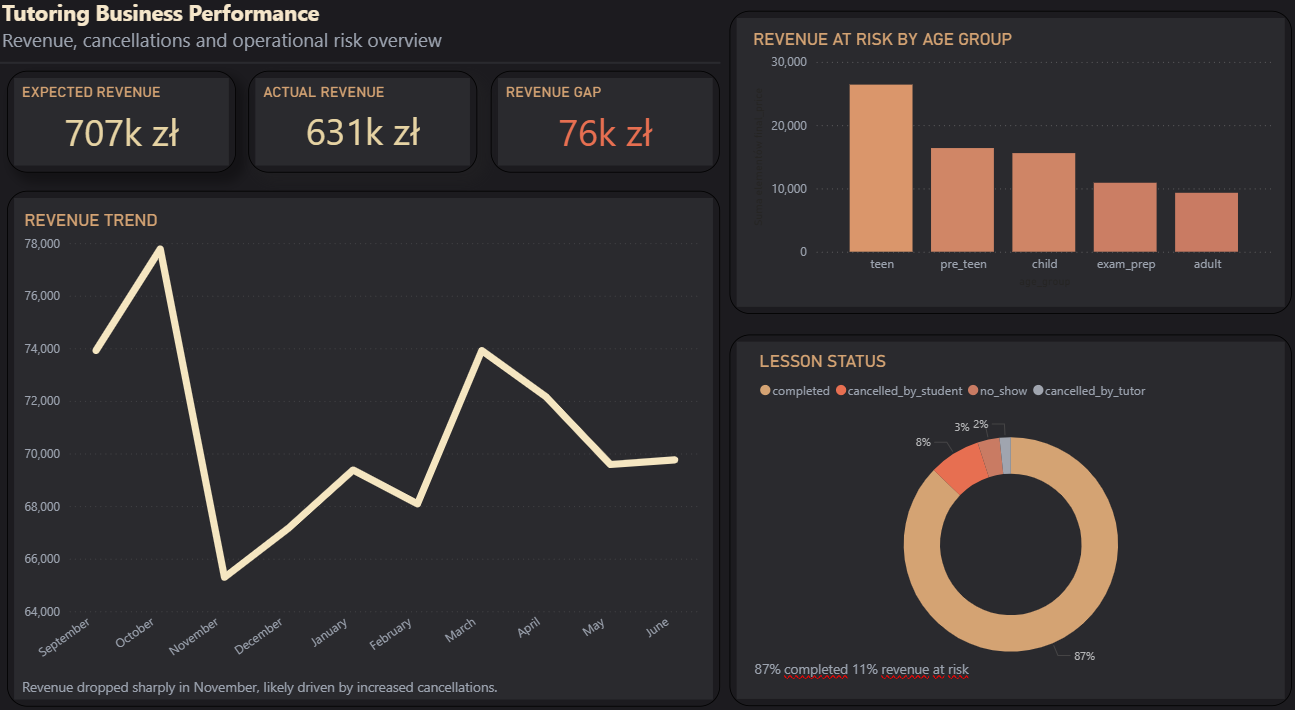

The page's visual inventory and layout, read from the dashboard file:
{"tool":"powerbi","page":{"name":"Strona 1","canvas":[1280,720],"ordinal":0},"visuals":[{"type":"shape","box":[9.6,76.8,225,100.2],"z":0},{"type":"card","title":"EXPECTED REVENUE","fields":{"Values":["lessons_clean.Expected Revenue Display"]},"box":[19.2,89.2,205.8,78.2],"z":1000},{"type":"shape","box":[247,76.8,225,100.2],"z":2000},{"type":"shape","box":[484.4,76.8,225,100.2],"z":3000},{"type":"card","title":"ACTUAL REVENUE","fields":{"Values":["payments_clean.Actual Revenue Display"]},"box":[256.6,89.2,205.8,76.8],"z":4000},{"type":"card","title":"REVENUE GAP","fields":{"Values":["payments_clean.Revenue Gap Display"]},"box":[494,89.2,205.8,78.2],"z":5000},{"type":"shape","box":[9.6,194.9,699.8,506.3],"z":6000},{"type":"lineChart","title":"REVENUE TREND","fields":{"Category":["calendar_clean.month_name"],"Y":["Sum(lessons_clean.final_price)"]},"box":[22.1,213.5,673.6,462.6],"z":7000},{"type":"shape","box":[719,336.2,551.6,365],"z":8000},{"type":"donutChart","title":"LESSON STATUS","fields":{"Y":["CountNonNull(lessons_clean.lesson_id)"],"Category":["lessons_clean.status"]},"box":[743.7,352.7,503.6,333.4],"z":9000},{"type":"textbox","box":[738.3,650.4,484.4,50.8],"z":10000},{"type":"shape","box":[719,17.8,551.6,297.8],"z":11000},{"type":"columnChart","title":"REVENUE AT RISK BY AGE GROUP","fields":{"Y":["Sum(lessons_clean.final_price)"],"Category":["students_clean.age_group"]},"box":[736.9,35.7,520.1,259.3],"z":12000},{"type":"textbox","box":[0,0,467.9,70],"z":13000},{"type":"shape","box":[0,62,710.2,13.9],"z":14000},{"type":"textbox","box":[19.6,667.5,530.1,33.1],"z":14001}]}

Visuals, with their boxes in screenshot pixels (x1, y1, x2, y2), scaled from the page's 1280x720 canvas onto the 1295x710 screenshot:
shape: x1=10 y1=76 x2=237 y2=175
"EXPECTED REVENUE" card: x1=19 y1=88 x2=228 y2=165
shape: x1=250 y1=76 x2=478 y2=175
shape: x1=490 y1=76 x2=718 y2=175
"ACTUAL REVENUE" card: x1=260 y1=88 x2=468 y2=164
"REVENUE GAP" card: x1=500 y1=88 x2=708 y2=165
shape: x1=10 y1=192 x2=718 y2=691
"REVENUE TREND" lineChart: x1=22 y1=211 x2=704 y2=667
shape: x1=727 y1=332 x2=1285 y2=691
"LESSON STATUS" donutChart: x1=752 y1=348 x2=1262 y2=677
textbox: x1=747 y1=641 x2=1237 y2=691
shape: x1=727 y1=18 x2=1285 y2=311
"REVENUE AT RISK BY AGE GROUP" columnChart: x1=746 y1=35 x2=1272 y2=291
textbox: x1=0 y1=0 x2=473 y2=69
shape: x1=0 y1=61 x2=719 y2=75
textbox: x1=20 y1=658 x2=556 y2=691
